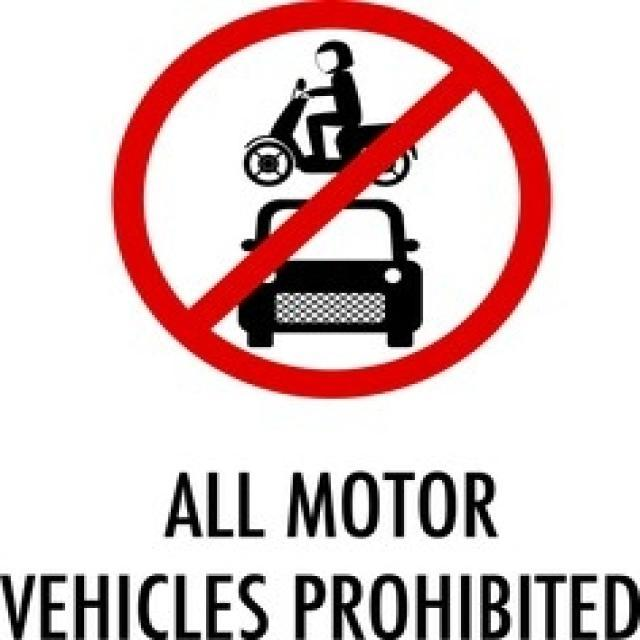all motor vehicle prohibited: (95, 2, 565, 408)
